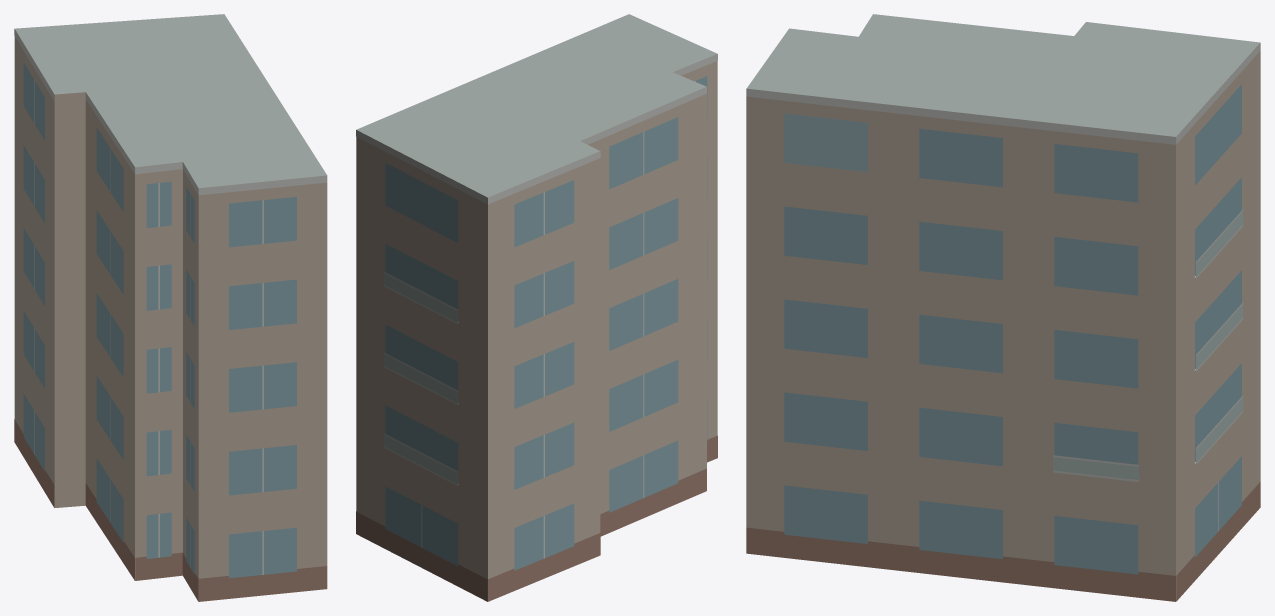
The model's file is survey-upis-32649037.glb.
The picture shows the model from 3 angles, left to right: view 1: azimuth 30°, elevation 25°; view 2: azimuth 150°, elevation 25°; view 3: azimuth 270°, elevation 25°; orthographic projection. The views are drawn at different scales.
Visible parts, largest first — view 1: survey-upis-32649037.tmp; view 2: survey-upis-32649037.tmp; view 3: survey-upis-32649037.tmp.
Part boxes in pixels (x1,y1,x2,y2): survey-upis-32649037.tmp: (14,14,327,601); survey-upis-32649037.tmp: (356,14,717,601); survey-upis-32649037.tmp: (746,14,1260,601).
Size of the model in its own units: 8.12 by 14.3 by 14.34.
